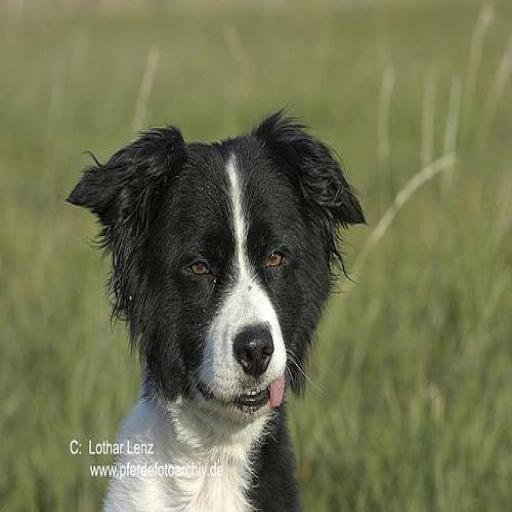dog_face: (78, 116, 339, 415)
